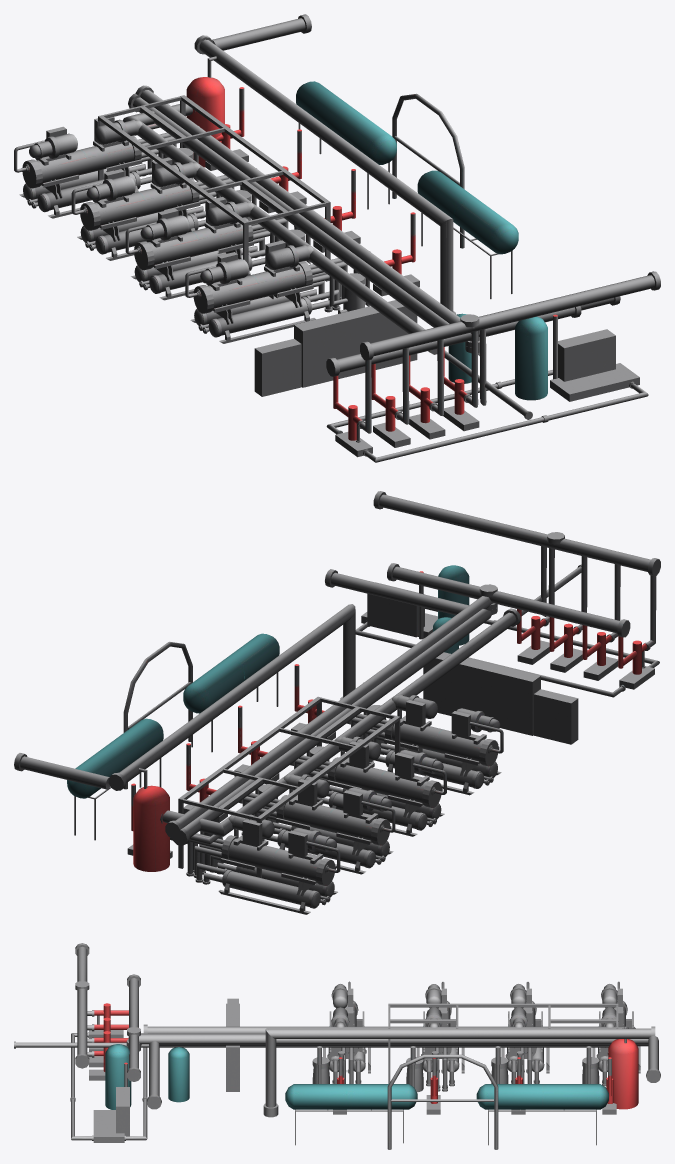
File: Room9otherV3.obj
The picture shows the model from 3 angles, top to bottom: view 1: azimuth 30°, elevation 25°; view 2: azimuth 150°, elevation 25°; view 3: azimuth 270°, elevation 25°; orthographic projection. The views are drawn at different scales.
Visible parts, largest first — view 1: Room9Other; view 2: Room9Other; view 3: Room9Other.
Part boxes in pixels (x1,y1,x2,y2): Room9Other: [14, 14, 660, 462]; Room9Other: [14, 491, 660, 914]; Room9Other: [14, 943, 660, 1149].
Size of the model in its own units: 8.24 by 2.99 by 18.57.
1 material, 1 textured.
